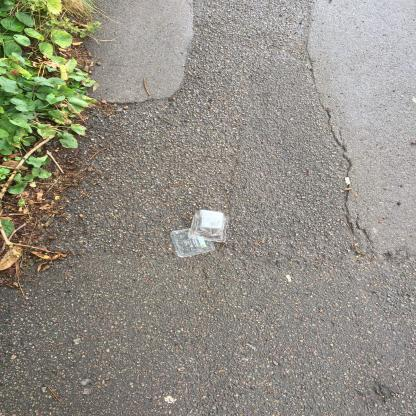Cigarette: (344, 177, 350, 186)
Disposable food container: (188, 210, 230, 242)
Plastic film: (170, 228, 215, 257)
